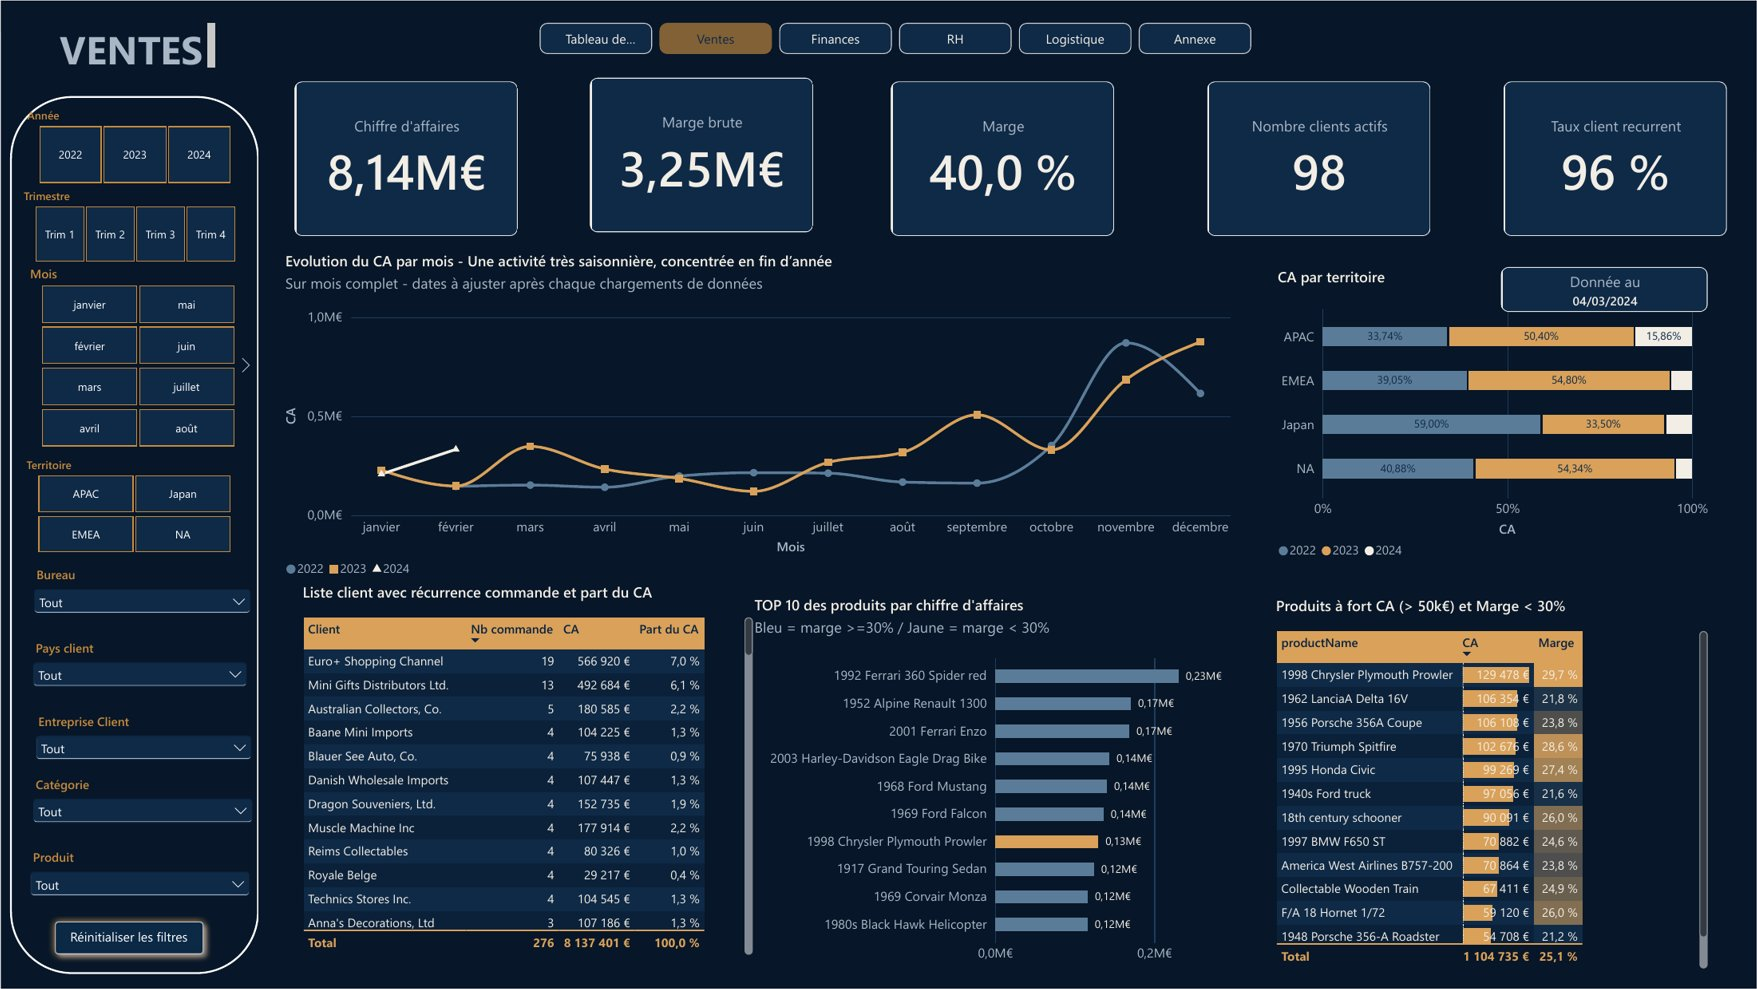

The page's visual inventory and layout, read from the dashboard file:
{"tool":"powerbi","page":{"name":"Ventes","canvas":[1920,1080],"ordinal":1},"visuals":[{"type":"shape","box":[0,95.8,291.7,976.7],"z":0},{"type":"cardVisual","title":"AAAAA","fields":{"Data":["_Measure_Ventes.CA"]},"box":[311.4,80,264.3,185.7],"z":1000},{"type":"cardVisual","fields":{"Data":["_Measure_Ventes.Marge"]},"box":[634.4,75.8,264.3,185.7],"z":2000},{"type":"cardVisual","fields":{"Data":["_Measure_Ventes.Taux marge"]},"box":[963,79.8,264.3,185.7],"z":3000},{"type":"cardVisual","fields":{"Data":["_Measure_Ventes.Nb client actif"]},"box":[1308.8,79.8,264.3,185.7],"z":4000},{"type":"cardVisual","fields":{"Data":["_Measure_Ventes.Taux client recurrent"]},"box":[1632.9,80,264.3,185.7],"z":5000},{"type":"lineChart","title":"Evolution du CA par mois - Une activité très saisonnière, concentrée en fin d’année","fields":{"Category":["dim_date.date.Variation.Hiérarchie de dates.Mois"],"Series":["dim_date.date.Variation.Hiérarchie de dates.Année"],"Y":["_Measure_Ventes.CA"]},"box":[301.4,265.7,1055.7,377.1],"z":6000},{"type":"hundredPercentStackedBarChart","title":"CA par territoire","fields":{"Category":["dim_employee.officeTerritory"],"Series":["dim_date.date.Variation.Hiérarchie de dates.Année"],"Y":["_Measure_Ventes.CA"]},"box":[1386,283,491.4,340],"z":7000},{"type":"tableEx","title":"Liste client avec récurrence commande et part du CA","fields":{"Values":["dim_customers.CustomerName","_Measure_Ventes.Nb commande","_Measure_Ventes.CA","_Measure_Ventes.Part du CA"]},"box":[320,628.3,512.1,423],"z":8000},{"type":"clusteredBarChart","title":"TOP 10 des produits par chiffre d''affaires","fields":{"Category":["dim_produit.productName"],"Y":["_Measure_Ventes.CA"]},"box":[814,642.4,563.9,423],"z":9000},{"type":"tableEx","title":"Produits à fort CA (> 50k€) et Marge < 30%","fields":{"Values":["dim_produit.productName","_Measure_Ventes.CA","_Measure_Ventes.Taux marge"]},"box":[1384.3,642.9,491.4,422.9],"z":10000},{"type":"textbox","box":[54.5,16,189.7,68.6],"z":11000},{"type":"slicer","fields":{"Values":["dim_employee.officeTerritory"]},"box":[10.1,490.9,269.8,122.5],"z":12000},{"type":"pageNavigator","box":[578.6,16,800,50],"z":13000},{"type":"cardVisual","fields":{"Data":["_Measure_Ventes.Donnée au"]},"box":[1629.7,283,246.7,65],"z":14000},{"type":"slicer","fields":{"Values":["dim_date.date.Variation.Hiérarchie de dates.Trimestre"]},"box":[6.7,196.8,277.9,98.3],"z":15000},{"type":"slicer","fields":{"Values":["dim_date.date.Variation.Hiérarchie de dates.Année"]},"box":[10.6,109.1,268.9,100.4],"z":16000},{"type":"actionButton","title":"Réinitialiser les filtres","box":[39.6,990.1,200.1,68.7],"z":17000},{"type":"slicer","fields":{"Values":["dim_date.date.Variation.Hiérarchie de dates.Mois"]},"box":[13.8,281.8,269.8,215.5],"z":19000},{"type":"slicer","fields":{"Values":["dim_employee.officeCity"]},"box":[21.4,611.4,266.2,80.1],"z":19001},{"type":"slicer","fields":{"Values":["dim_customers.country"]},"box":[20,691.4,264.3,80.1],"z":19002},{"type":"slicer","fields":{"Values":["dim_produit.productLine"]},"box":[20,840,269.8,80.1],"z":19003},{"type":"slicer","fields":{"Values":["dim_produit.productName"]},"box":[17.1,920,269.8,80.1],"z":19004},{"type":"slicer","fields":{"Values":["dim_customers.CustomerName"]},"box":[22.9,771.4,266.2,83.8],"z":19005}]}

Visuals, with their boxes in screenshot pixels (x1, y1, x2, y2), scaled from the page's 1920x1080 canvas onto the 1757x989 screenshot:
shape: bbox(0, 88, 267, 982)
"AAAAA" cardVisual: bbox(285, 73, 527, 243)
cardVisual - _Measure_Ventes.Marge: bbox(581, 69, 822, 239)
cardVisual - _Measure_Ventes.Taux marge: bbox(881, 73, 1123, 243)
cardVisual - _Measure_Ventes.Nb client actif: bbox(1198, 73, 1440, 243)
cardVisual - _Measure_Ventes.Taux client recurrent: bbox(1494, 73, 1736, 243)
"Evolution du CA par mois - Une activité très saisonnière, concentrée en fin d’année" lineChart: bbox(276, 243, 1242, 589)
"CA par territoire" hundredPercentStackedBarChart: bbox(1268, 259, 1718, 571)
"Liste client avec récurrence commande et part du CA" tableEx: bbox(293, 575, 761, 963)
"TOP 10 des produits par chiffre d''affaires" clusteredBarChart: bbox(745, 588, 1261, 976)
"Produits à fort CA (> 50k€) et Marge < 30%" tableEx: bbox(1267, 589, 1716, 976)
textbox: bbox(50, 15, 223, 77)
slicer - dim_employee.officeTerritory: bbox(9, 450, 256, 562)
pageNavigator: bbox(529, 15, 1262, 60)
cardVisual - _Measure_Ventes.Donnée au: bbox(1491, 259, 1717, 319)
slicer - dim_date.date.Variation.Hiérarchie de dates.Trimestre: bbox(6, 180, 260, 270)
slicer - dim_date.date.Variation.Hiérarchie de dates.Année: bbox(10, 100, 256, 192)
"Réinitialiser les filtres" actionButton: bbox(36, 907, 219, 970)
slicer - dim_date.date.Variation.Hiérarchie de dates.Mois: bbox(13, 258, 260, 455)
slicer - dim_employee.officeCity: bbox(20, 560, 263, 633)
slicer - dim_customers.country: bbox(18, 633, 260, 706)
slicer - dim_produit.productLine: bbox(18, 769, 265, 843)
slicer - dim_produit.productName: bbox(16, 842, 263, 916)
slicer - dim_customers.CustomerName: bbox(21, 706, 265, 783)
